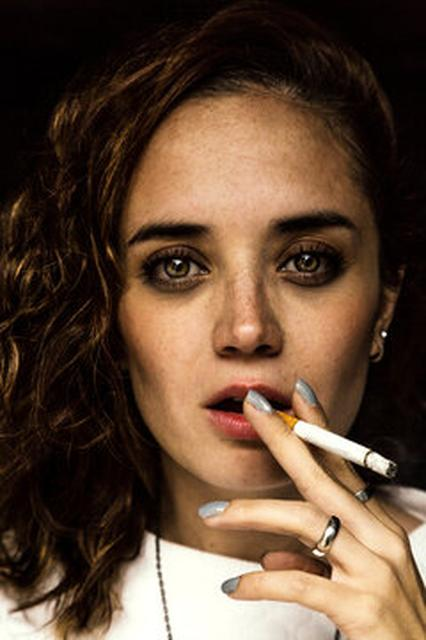Cigarette: (242, 387, 398, 480)
